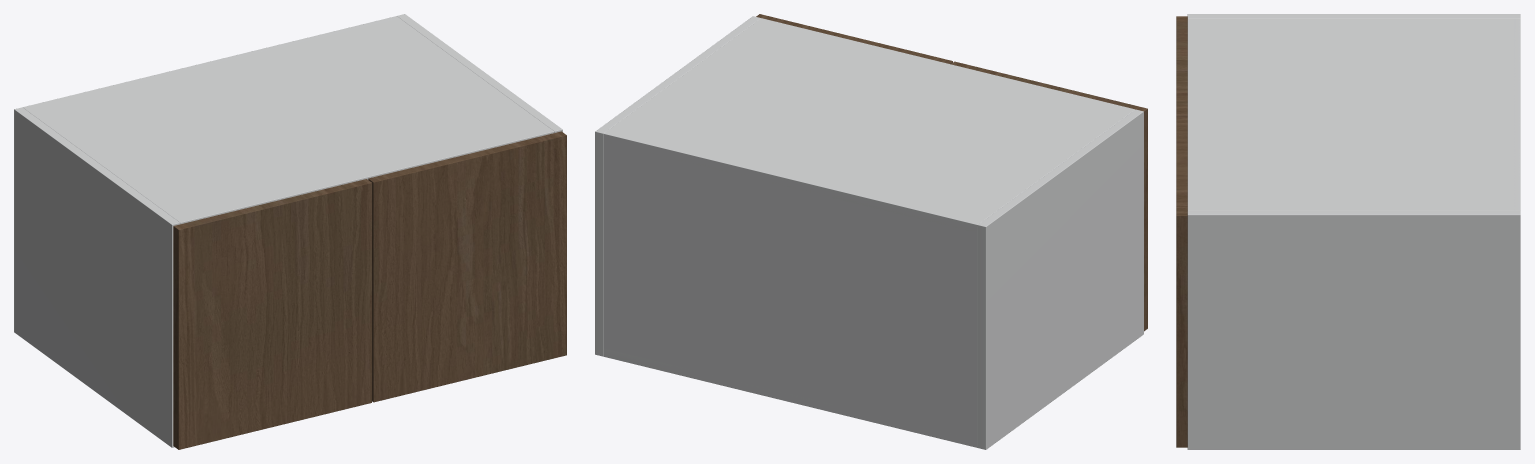
The model's file is oppein-ply-mso-w331824.glb.
3 renders of one model, left to right at view 1: azimuth 30°, elevation 25°; view 2: azimuth 150°, elevation 25°; view 3: azimuth 270°, elevation 25°, orthographic. The views are drawn at different scales.
Parts seen in each view (by area): view 1: Cabinet top, Door, Door.001, Cabinet side, Cabinet side.001, Cabinet back; view 2: Cabinet back, Cabinet top, Cabinet side, Cabinet side.001, Door, Door.001, Cabinet bottom; view 3: Cabinet side.001, Cabinet top, Door.001, Cabinet side, Cabinet back, Door.
Boxes of the visible parts, x1,y1,x2,y2 form: Cabinet top: (23, 16, 554, 224); Door: (173, 179, 371, 449); Door.001: (368, 131, 566, 402); Cabinet side: (14, 107, 180, 447); Cabinet side.001: (397, 14, 562, 132); Cabinet back: (23, 16, 399, 109); Cabinet back: (603, 131, 980, 447); Cabinet top: (604, 18, 1134, 232); Cabinet side: (977, 109, 1143, 449); Cabinet side.001: (595, 16, 760, 356); Door: (951, 61, 1147, 331); Door.001: (756, 14, 952, 64); Cabinet bottom: (603, 348, 977, 444); Cabinet side.001: (1187, 210, 1520, 449); Cabinet top: (1187, 18, 1520, 210); Door.001: (1176, 116, 1187, 447); Cabinet side: (1187, 14, 1520, 18); Cabinet back: (1514, 18, 1520, 210); Door: (1176, 16, 1187, 116).
Bounding box in the file's own units: 0.8382 × 0.4572 × 0.6064.
Materials: 2 (1 with a texture image).
